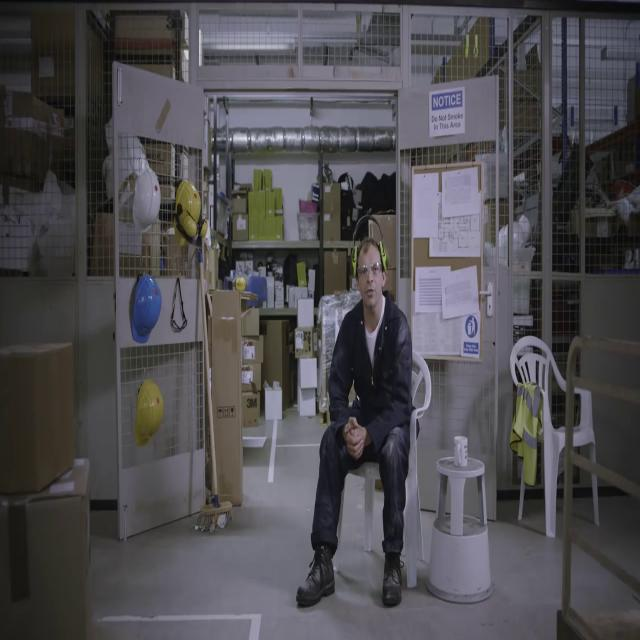earmuff: (376, 239, 391, 274), (182, 210, 198, 239), (348, 244, 360, 278), (200, 215, 210, 239)
glasses: (356, 261, 384, 279)
helmet: (130, 273, 162, 346), (132, 163, 162, 236), (134, 374, 164, 447)
